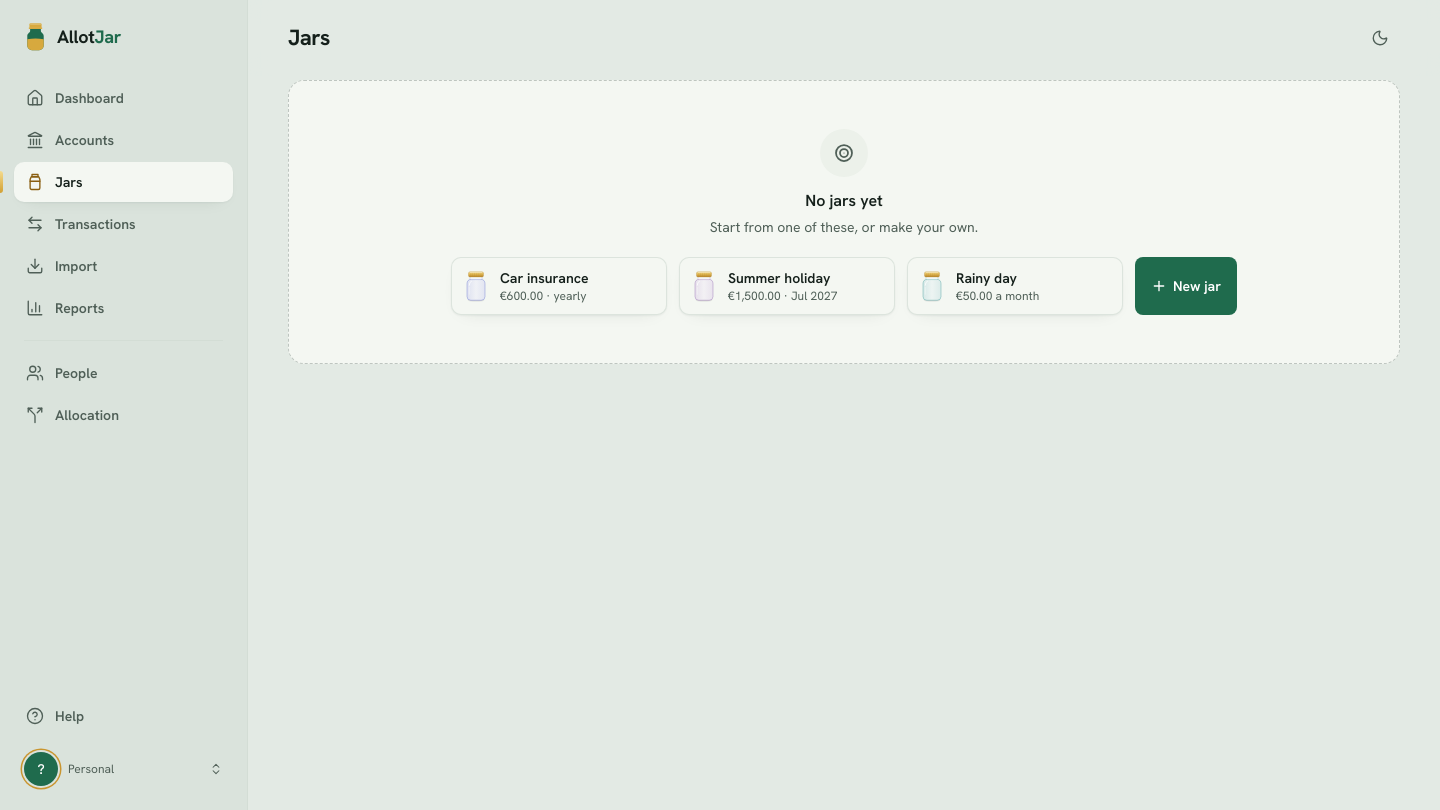
JarsPage — example jars on the empty page › the rainy-day pot sets aside a fixed amount each month, with no target
Click the button "Rainy day €50.00 a month". click: (1015, 286)
box: [907,257,1123,315]
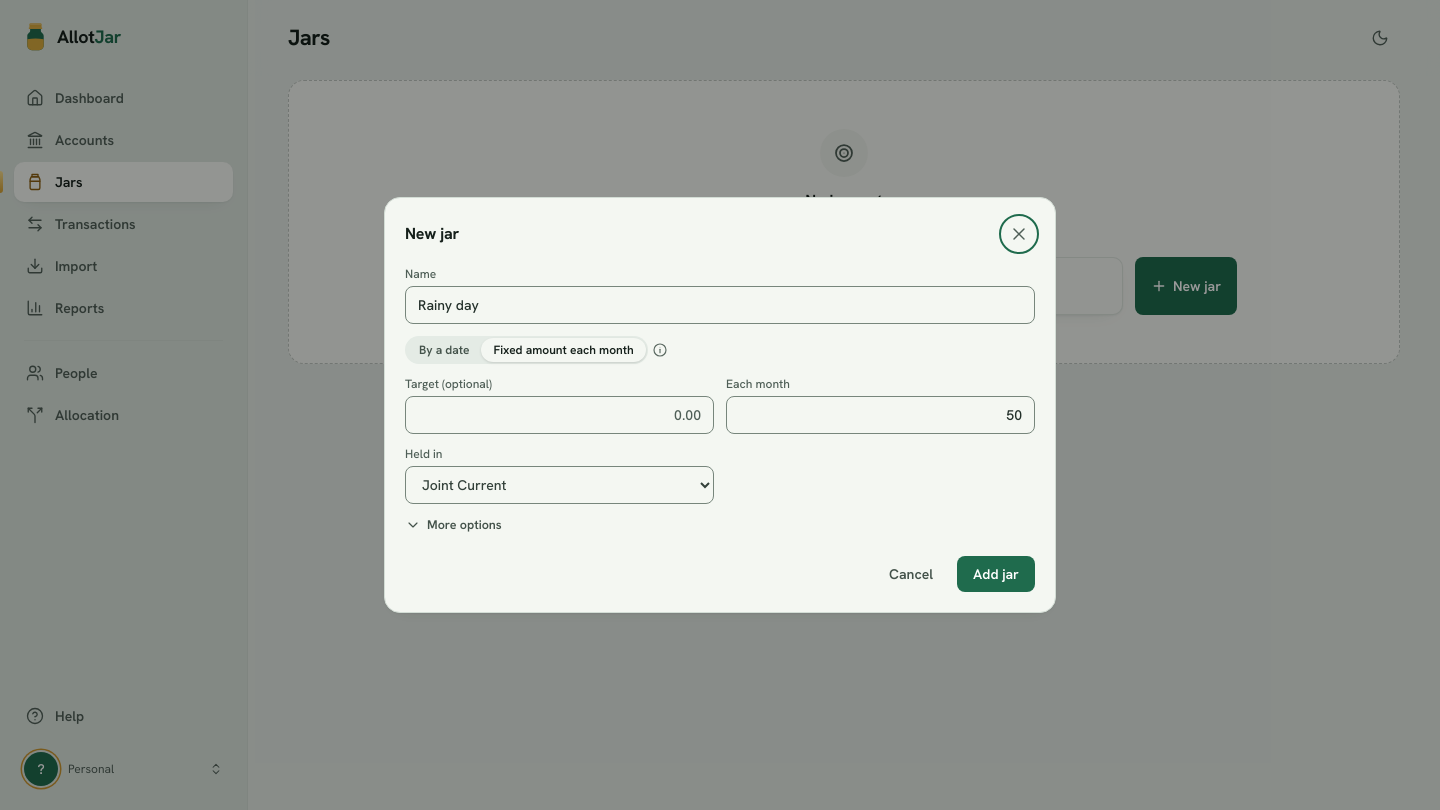
Expected: the field named "Jar name" holds "Rainy day", [405,286,1035,324]
Expected: the radio button with aria-label "Set aside a fixed amount each month" is checked, [482,338,646,362]
Expected: the field labelled "Each month" holds "50", [726,396,1035,434]
